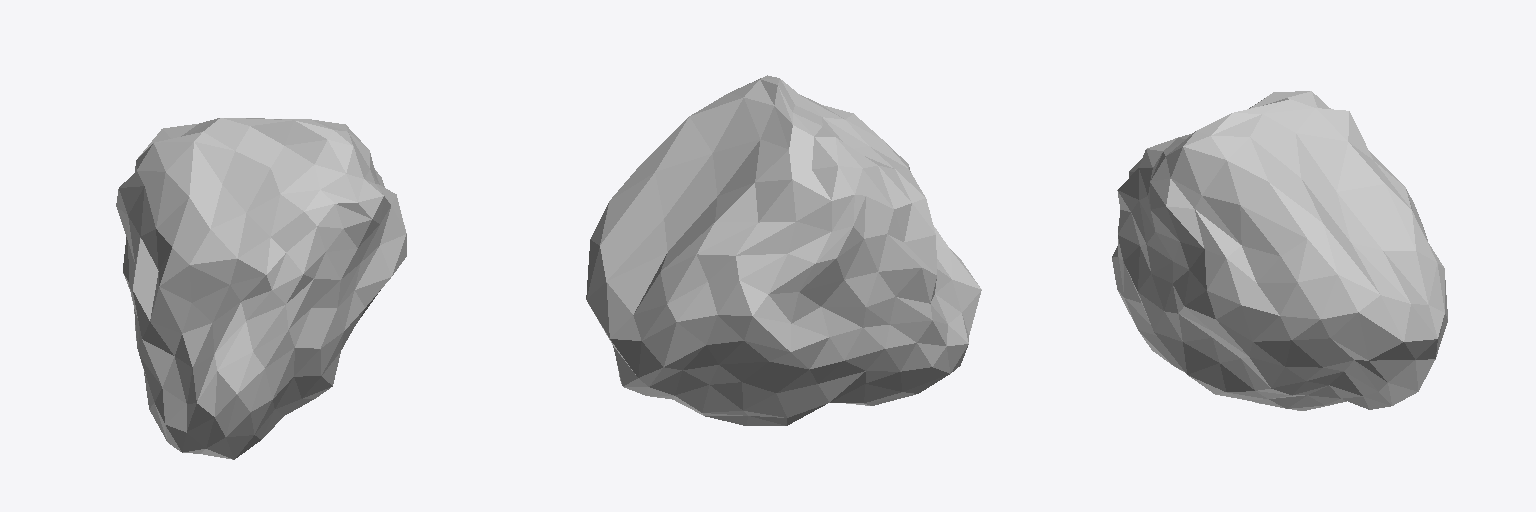
File: asteroid22.obj
3 renders of one model, left to right at view 1: azimuth 30°, elevation 25°; view 2: azimuth 150°, elevation 25°; view 3: azimuth 270°, elevation 25°, orthographic.
Visible parts, largest first — view 1: asteroid; view 2: asteroid; view 3: asteroid.
Boxes of the visible parts, x1,y1,x2,y2 form: asteroid: [116, 118, 406, 459]; asteroid: [586, 75, 981, 425]; asteroid: [1112, 91, 1447, 410].
Size of the model in its own units: 47.61 by 46.74 by 47.55.